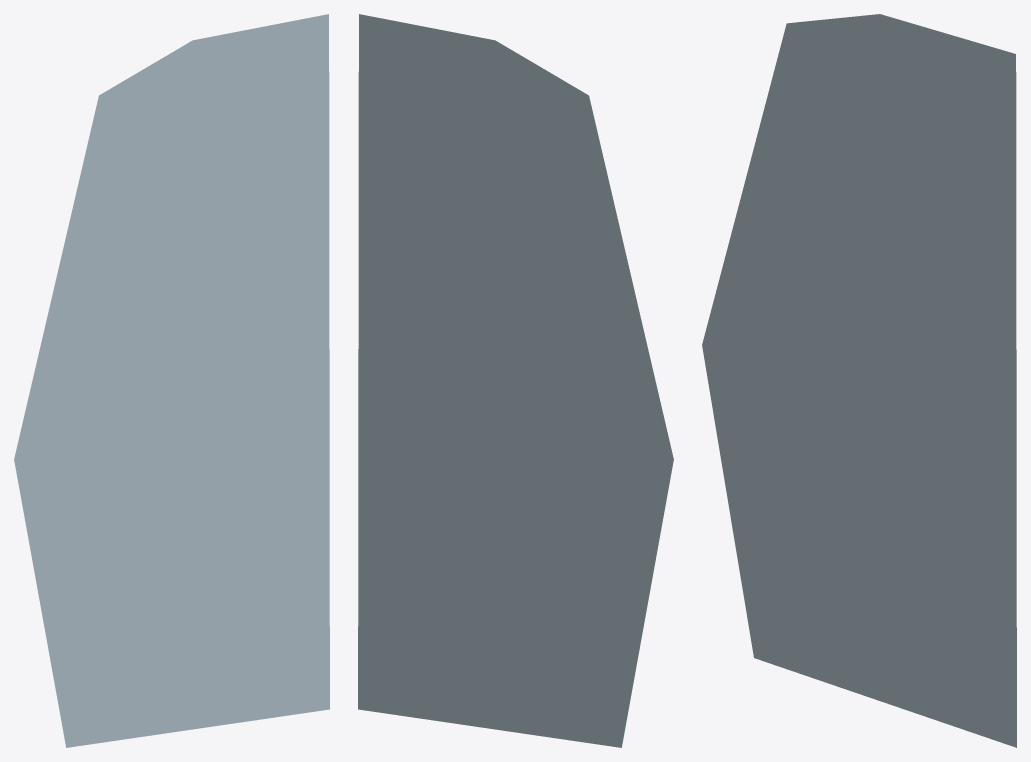
3 renders of one model, left to right at view 1: azimuth 30°, elevation 25°; view 2: azimuth 150°, elevation 25°; view 3: azimuth 330°, elevation 25°, orthographic.
Parts seen in each view (by area): view 1: pCube29; view 2: pCube29; view 3: pCube29.
Boxes of the visible parts, x1,y1,x2,y2 form: pCube29: (14,14,329,747); pCube29: (358,14,673,747); pCube29: (702,14,1016,747).
Bounding box in the file's own units: 28.4 × 60.37 × 0.
